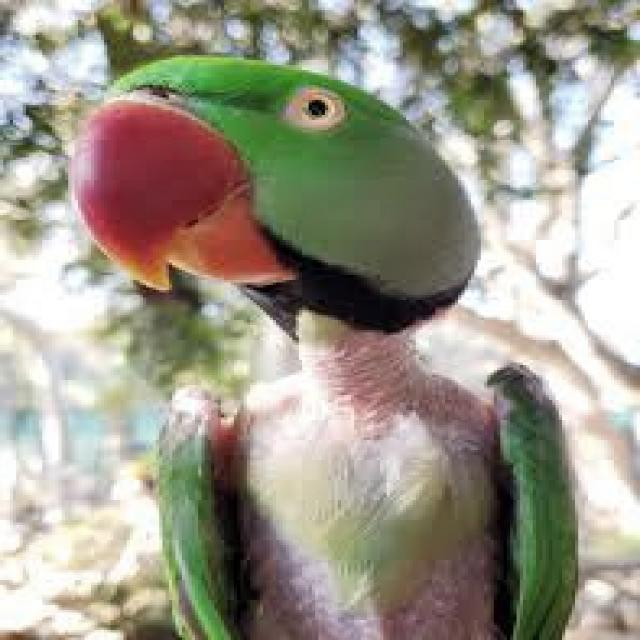parrot: (75, 55, 578, 638)
